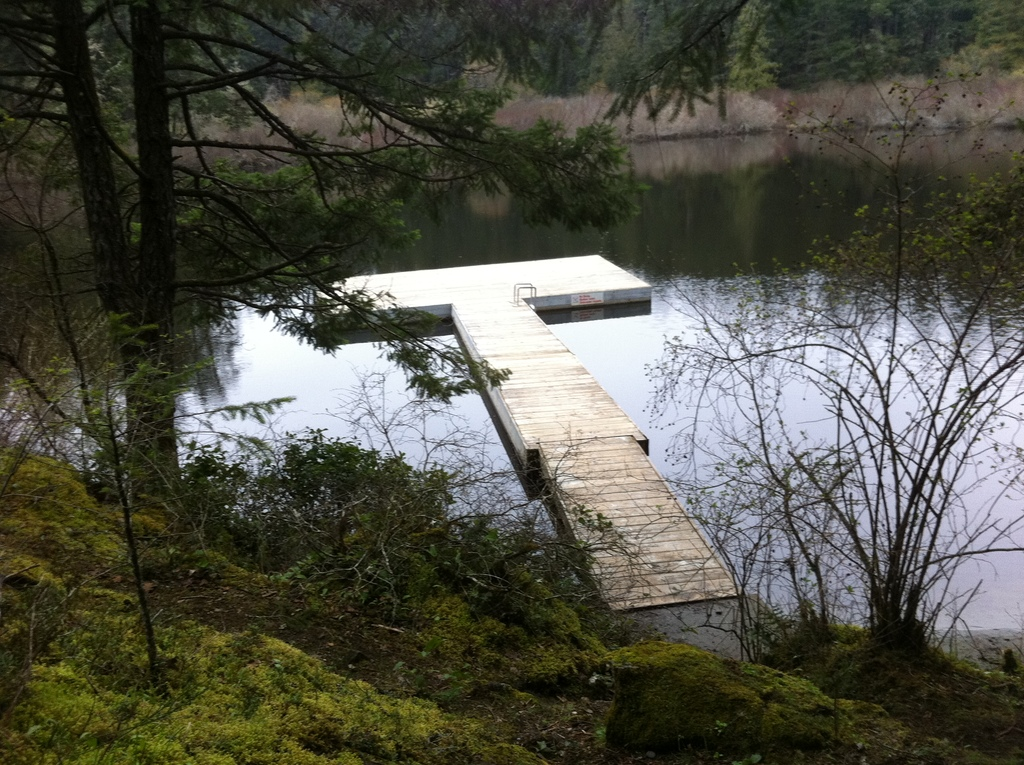Tree: (0, 0, 647, 512), (682, 204, 992, 696), (1, 309, 297, 687), (757, 0, 858, 92), (870, 0, 974, 83), (571, 0, 627, 92), (974, 2, 1023, 81)
